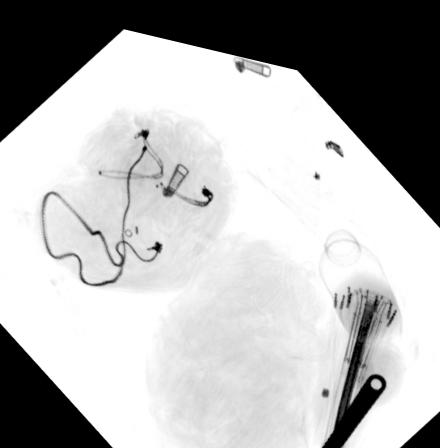Wrench: (306, 354, 389, 448)
